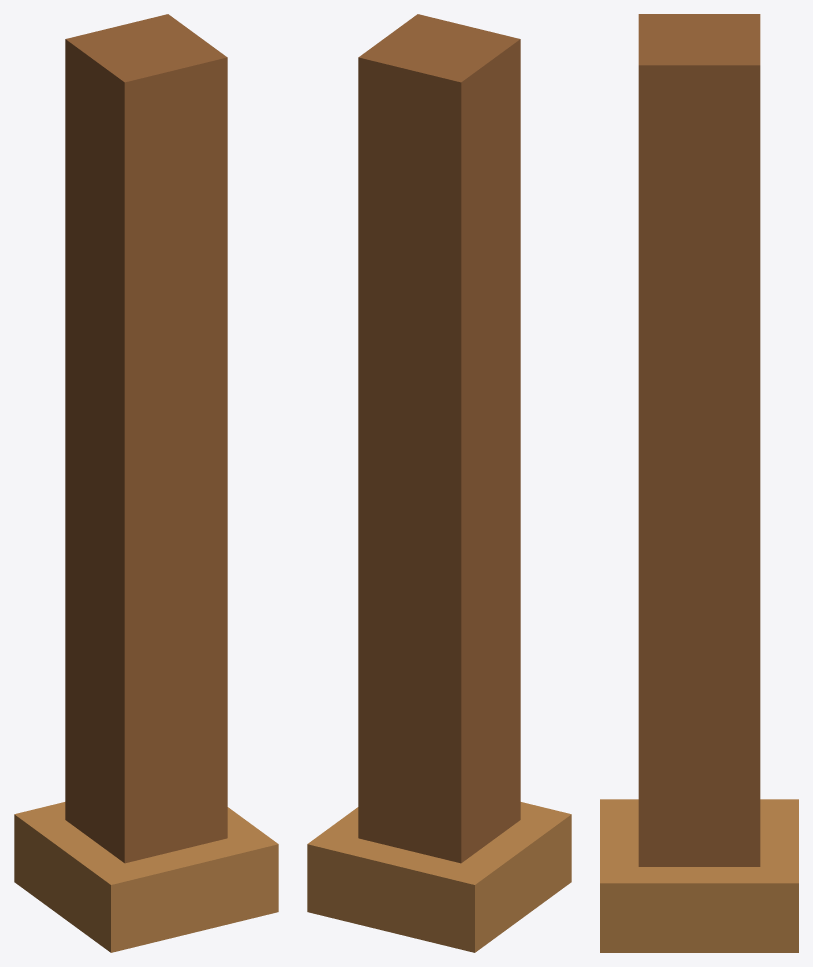
File: wood_post.glb
The picture shows the model from 3 angles, left to right: view 1: azimuth 30°, elevation 25°; view 2: azimuth 150°, elevation 25°; view 3: azimuth 270°, elevation 25°; orthographic projection. The views are drawn at different scales.
Visible parts, largest first — view 1: Post, Foot; view 2: Post, Foot; view 3: Post, Foot.
Part boxes in pixels (x1,y1,x2,y2): Post: (65, 14, 227, 863); Foot: (14, 802, 278, 952); Post: (358, 14, 520, 863); Foot: (307, 802, 571, 952); Post: (638, 14, 760, 866); Foot: (600, 799, 798, 952).
Bounding box in the file's own units: 0.62 × 3 × 0.62.
